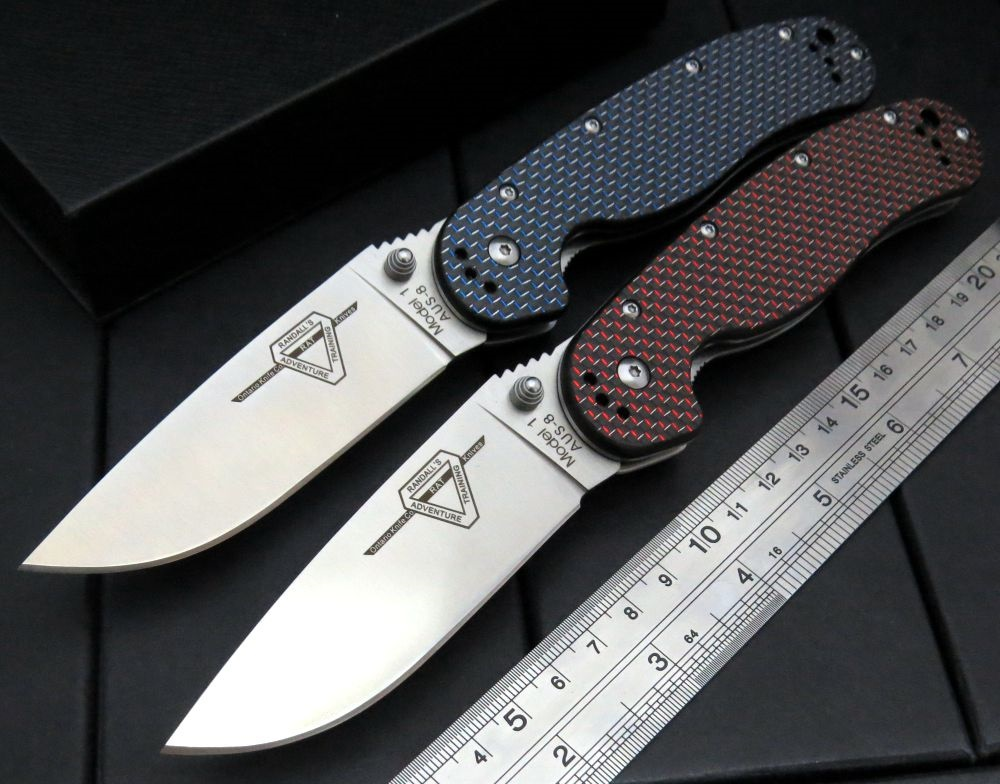knife: (16, 203, 491, 577), (148, 382, 596, 762)
